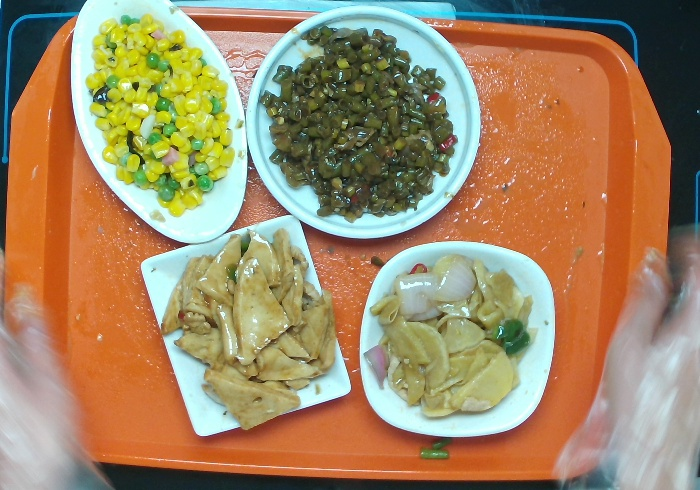HZYJPL-Si_Fang_Die: (139, 209, 351, 446)
HZYJPL-Si_Fang_Yuan_Die: (358, 238, 557, 438)
HZYJPL-Xiao_Yu_Die: (72, 1, 253, 253)
HZYJPL-Xiao_Yuan_Die: (243, 1, 482, 238)
